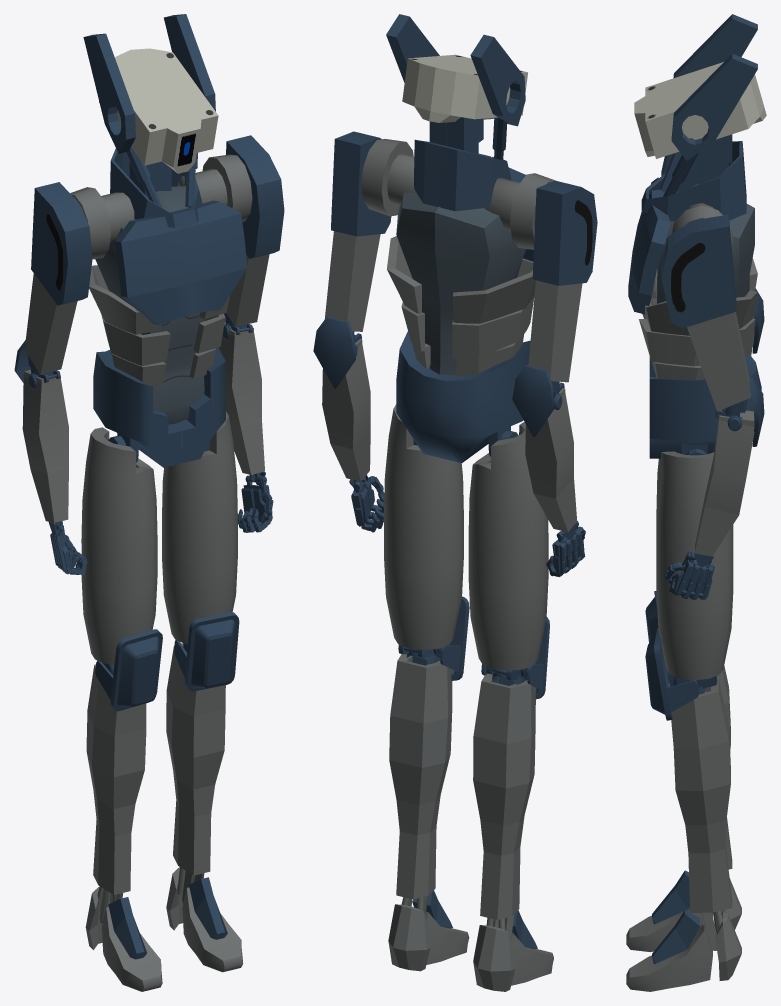
File: Humanoid.fbx
3 views of the same model, side by side, from view 1: azimuth 30°, elevation 25°; view 2: azimuth 150°, elevation 25°; view 3: azimuth 270°, elevation 25° (orthographic). The views are drawn at different scales.
Parts seen in each view (by area): view 1: humanoid_NPC; view 2: humanoid_NPC; view 3: humanoid_NPC.
Boxes of the visible parts, bbox=[...] form: humanoid_NPC: bbox=[14, 14, 284, 991]; humanoid_NPC: bbox=[313, 14, 597, 991]; humanoid_NPC: bbox=[626, 14, 766, 991].
Bounding box in the file's own units: 3.13 × 12.09 × 1.66.
